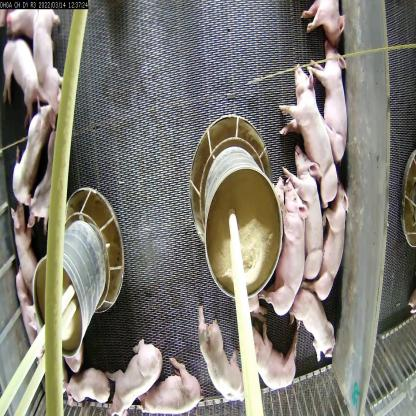Pig: (277, 60, 340, 207), (233, 307, 303, 402), (306, 38, 353, 168), (262, 178, 305, 320), (189, 304, 246, 408), (281, 145, 323, 282), (21, 128, 71, 228), (309, 192, 352, 303), (109, 334, 166, 415), (131, 353, 204, 416), (288, 278, 337, 368), (10, 109, 55, 203), (29, 8, 65, 116), (0, 28, 42, 115), (7, 200, 44, 294), (300, 0, 347, 55), (59, 368, 112, 415), (16, 264, 42, 353)
